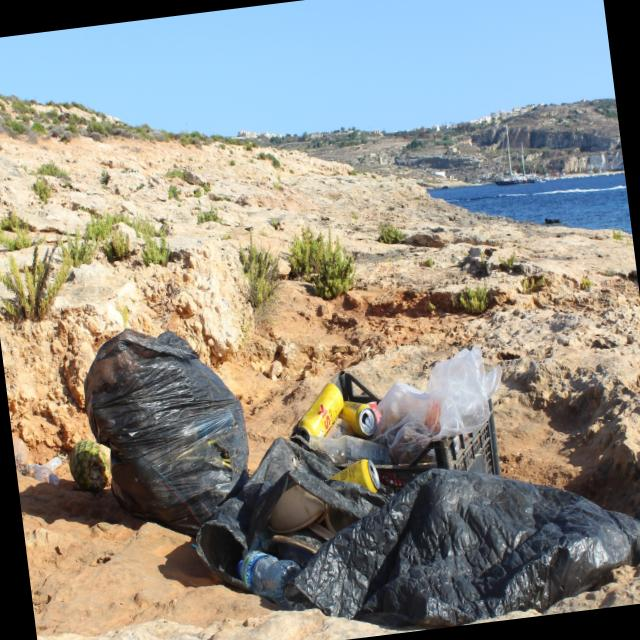Bottle: (237, 549, 301, 604), (310, 434, 395, 466), (19, 462, 62, 486)
Can: (297, 382, 344, 440), (327, 459, 380, 493), (336, 398, 378, 437), (367, 400, 381, 422)
Cup: (12, 437, 29, 469)
Other litter: (257, 484, 358, 564)
Other plastic: (330, 343, 500, 494), (43, 455, 62, 471)
Plastic bag - wrapper: (296, 469, 640, 630), (82, 328, 249, 536), (194, 435, 396, 597)
